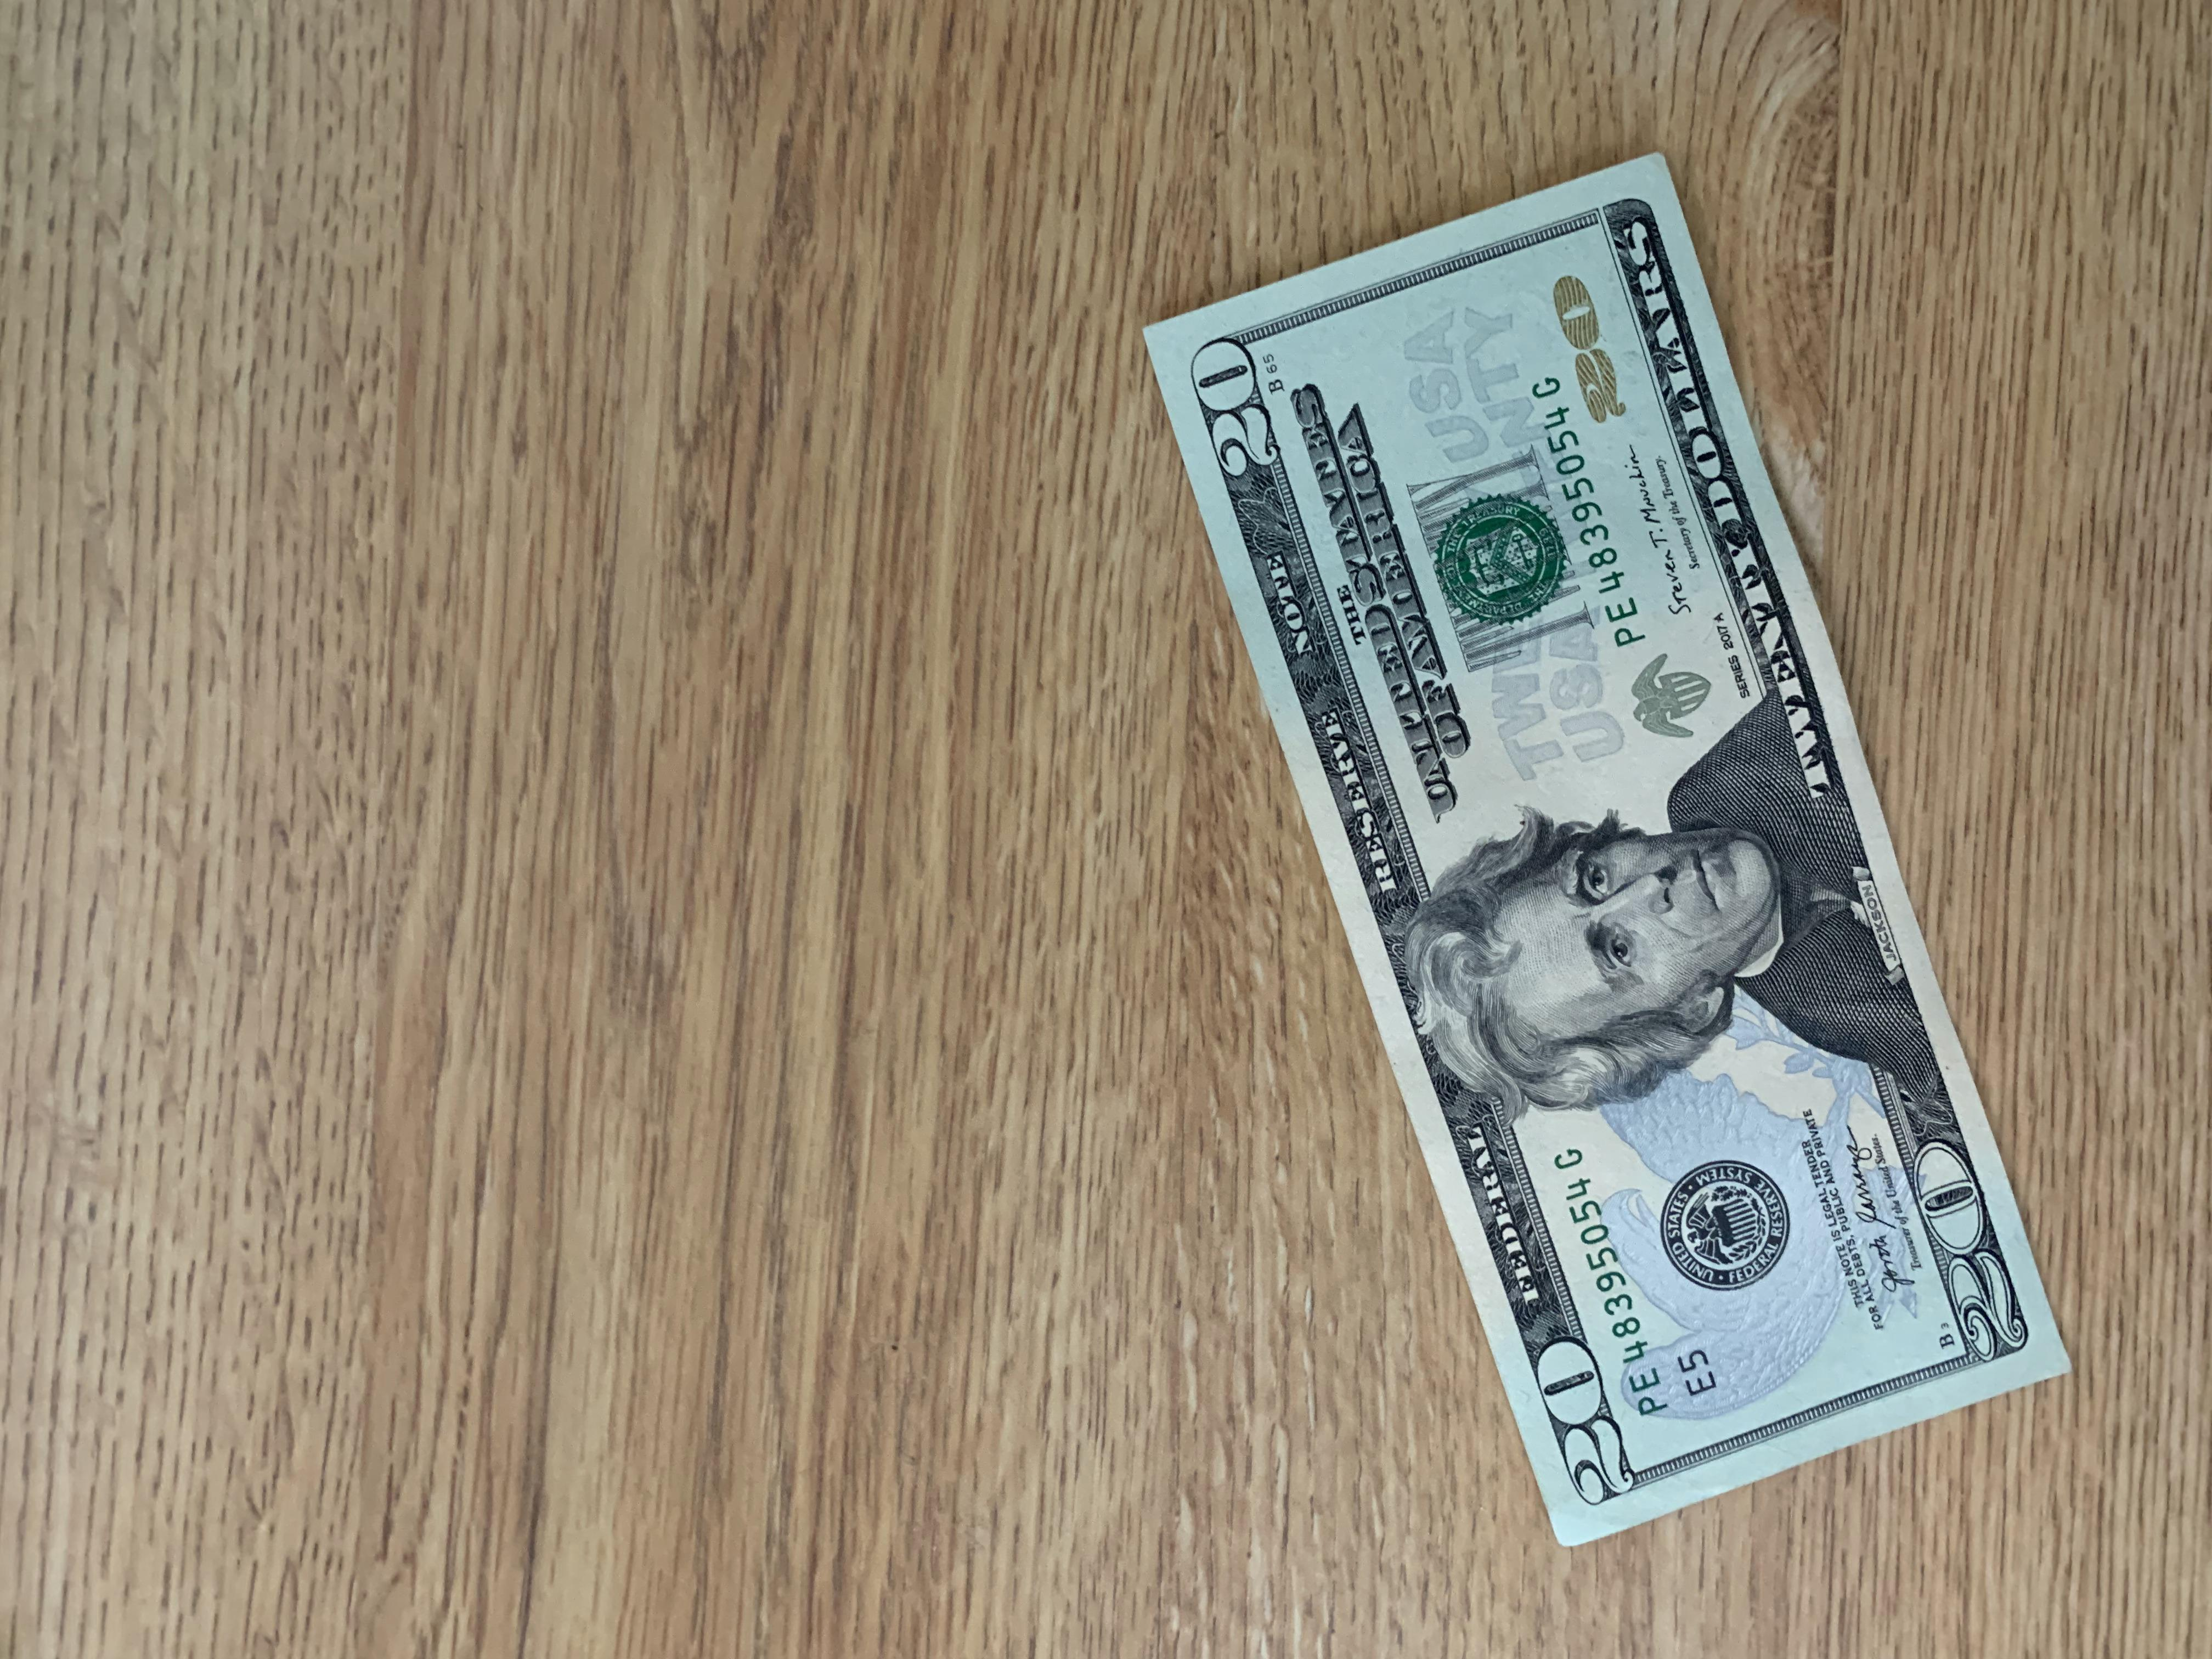TwentyBill: (1141, 153, 2097, 1554)
